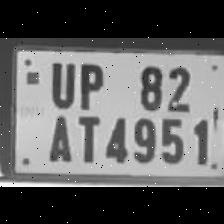1: (188, 111, 214, 165)
2: (162, 62, 192, 110)
4: (101, 110, 128, 164)
5: (156, 110, 186, 166)
8: (133, 60, 163, 110)
9: (128, 112, 155, 162)
A: (42, 108, 75, 164)
P: (73, 57, 107, 109)
T: (73, 110, 101, 164)
U: (46, 56, 76, 108)
